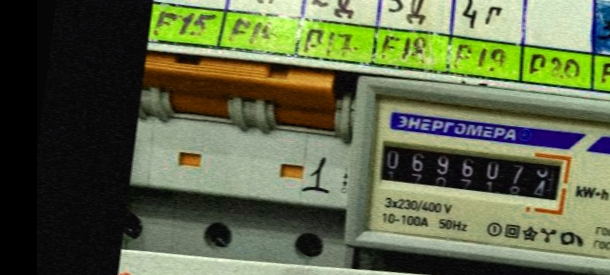0: (484, 157, 502, 181), (385, 147, 401, 170)
4: (532, 177, 548, 199)
6: (409, 150, 426, 172), (459, 156, 476, 178)
7: (509, 162, 526, 185)
9: (434, 153, 450, 175)
screen: (365, 128, 577, 213)
